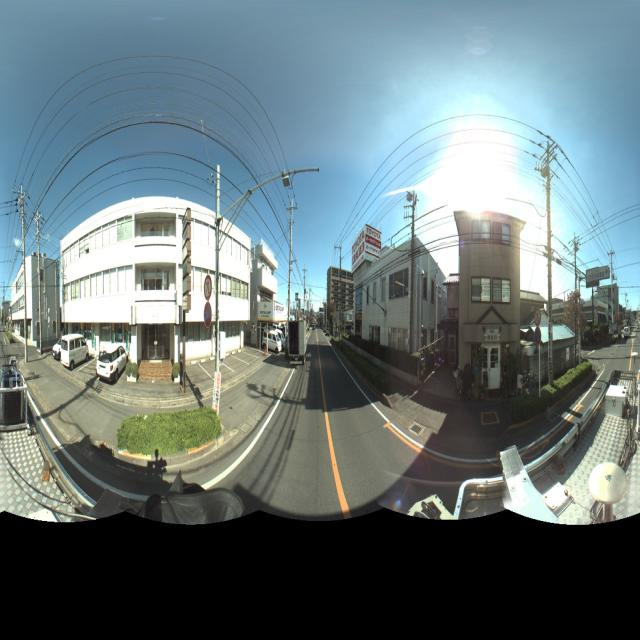b_1: (61, 196, 254, 374), (454, 206, 520, 392), (352, 242, 444, 362), (9, 244, 66, 349), (246, 242, 280, 347), (316, 261, 360, 325), (591, 279, 625, 330)
